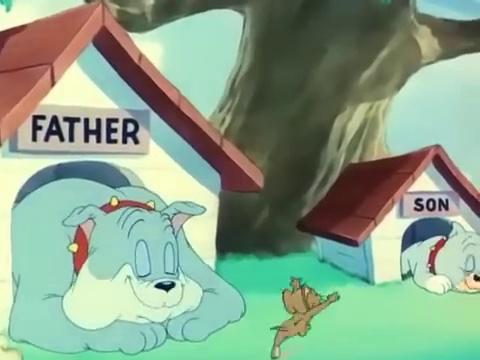spike: (56, 196, 207, 329)
